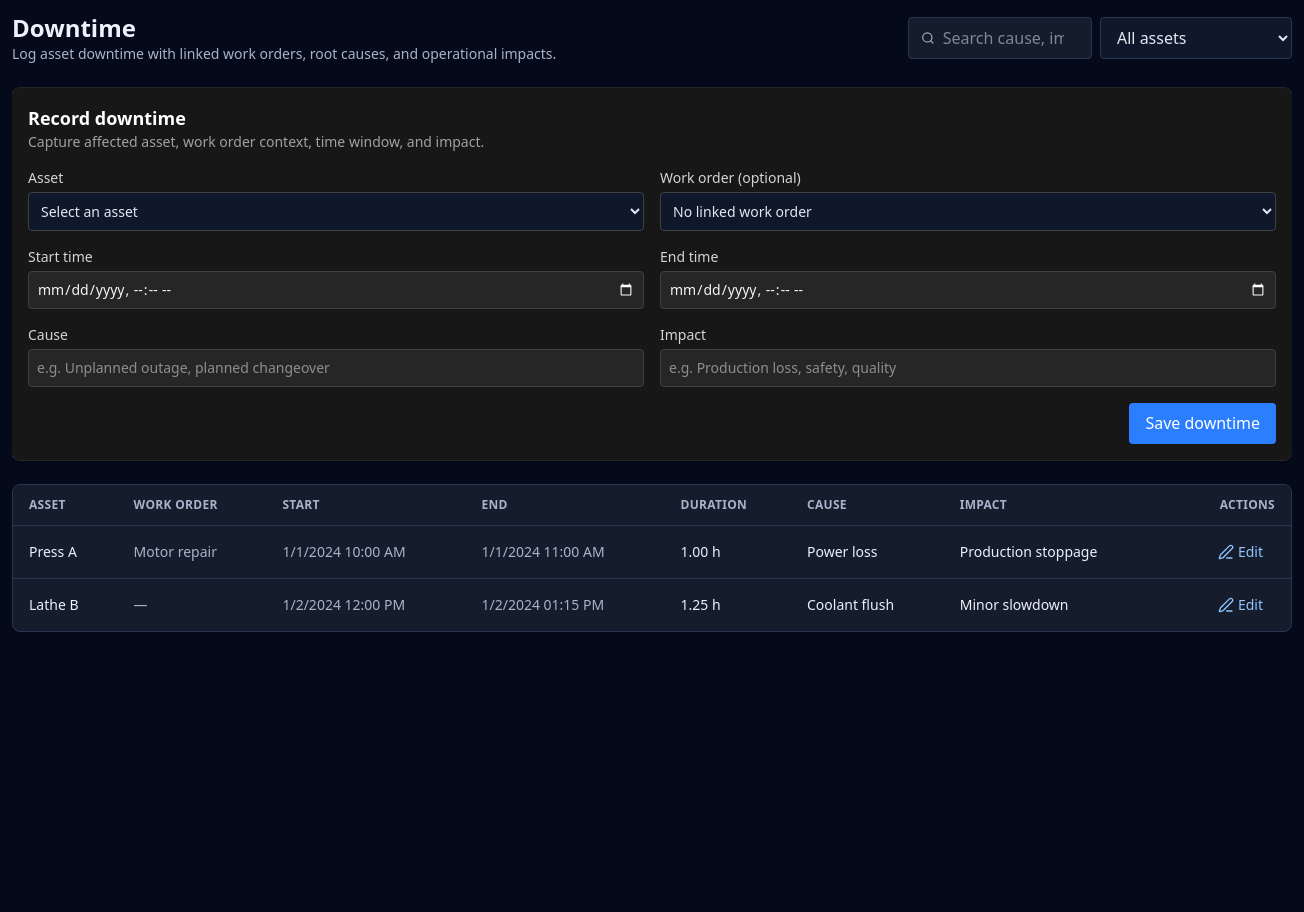
Test: DowntimeLogsPage › filters downtime rows by search and asset
Expected: the text "Power loss" is shown, [791,525,944,578]
Type "coolant" into the search field with placeholder "Search cause, impact, or work order".
click(1011, 38); type("coolant")  # box [943,26,1079,50]
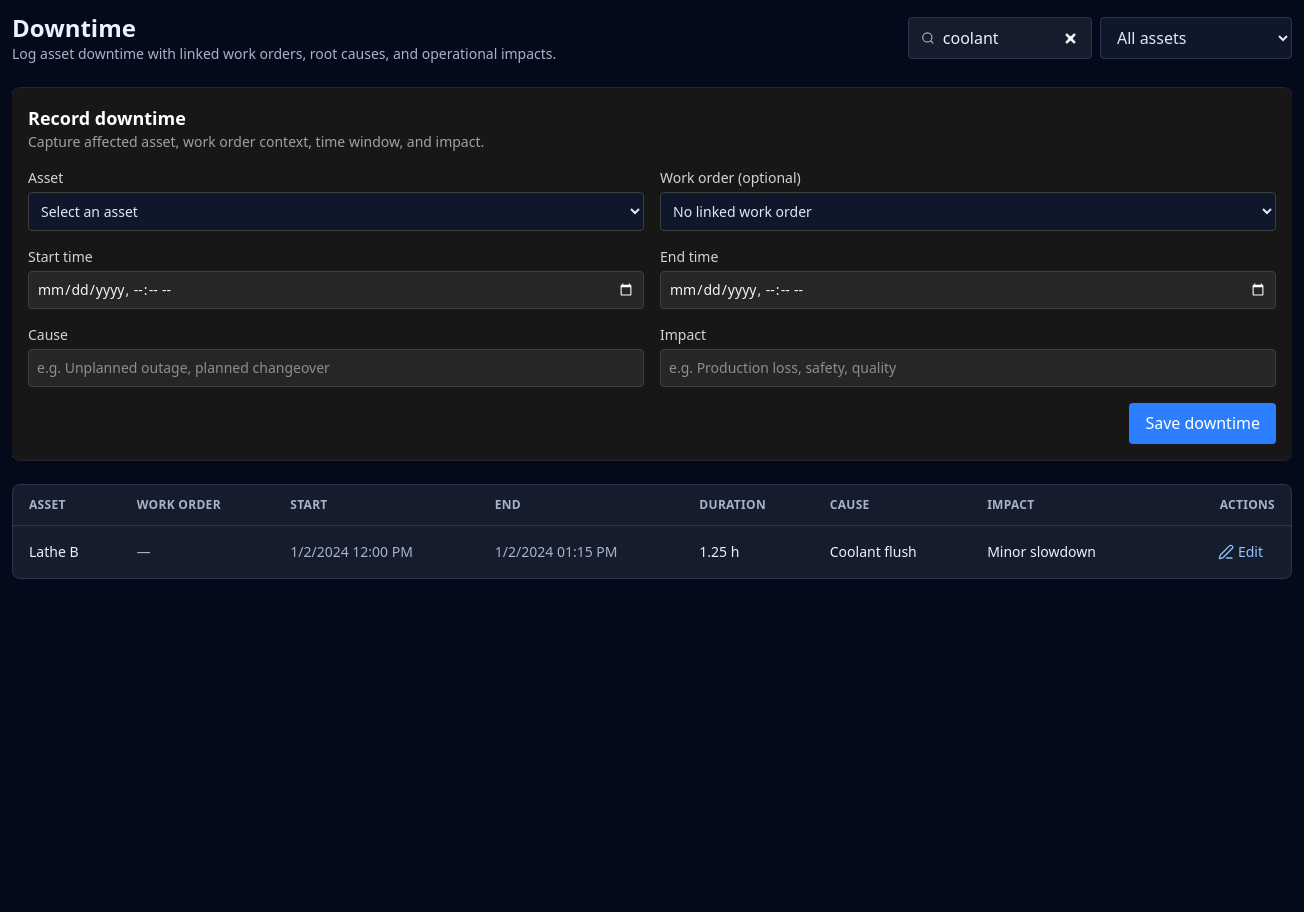
Expected: the text "Coolant flush" is shown, [814,525,971,578]
Now the text "Power loss" is gone
Clear the search field with placeholder "Search cause, impact, or work order" at (1011, 38), box [943,26,1079,50]
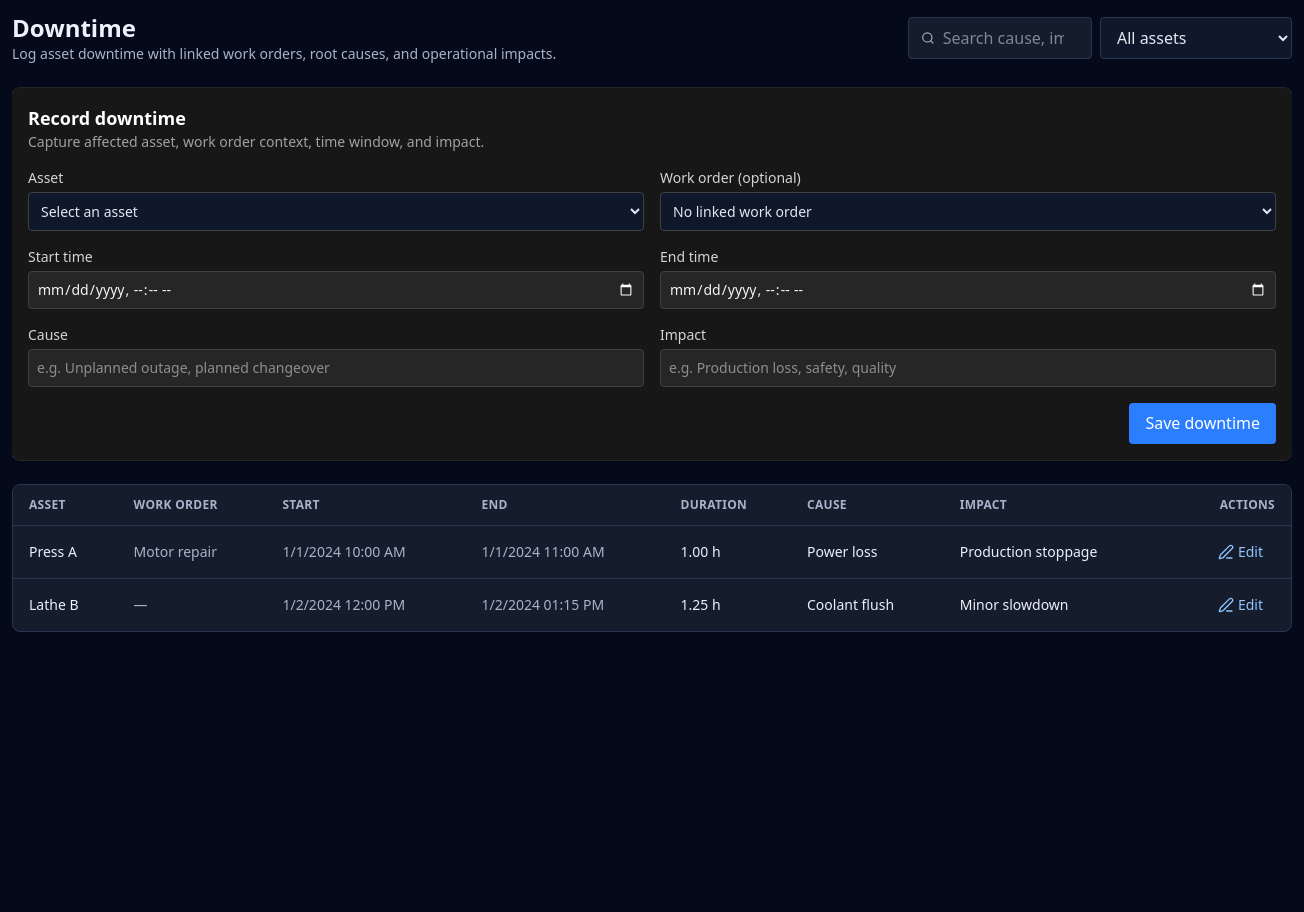
Select "Press A" in the dropdown with test id "asset-filter" at (1196, 38), box [1100,17,1292,59]
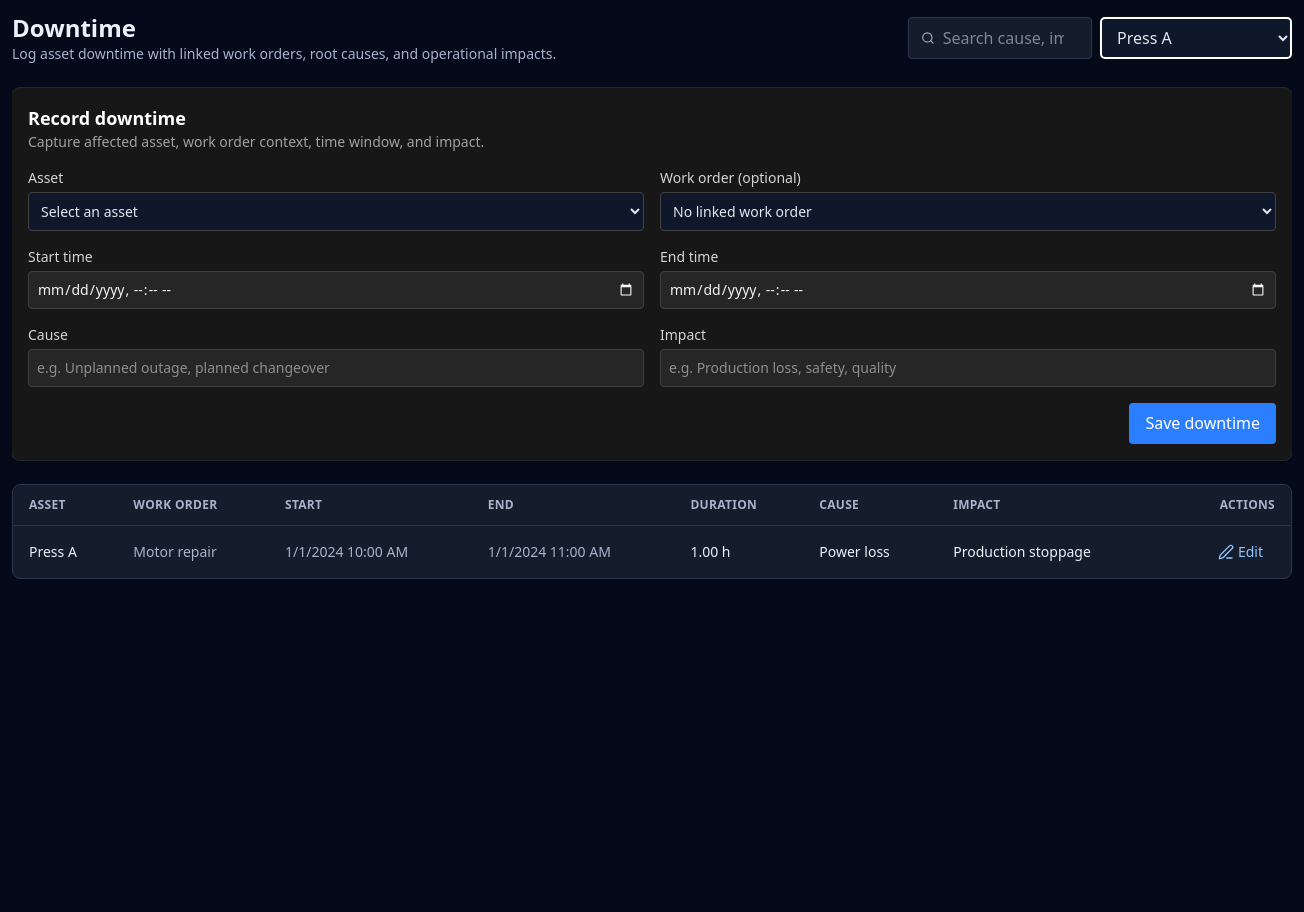
Now the text "Power loss" is shown, box [803,525,937,578]
Now the text "Coolant flush" is gone
